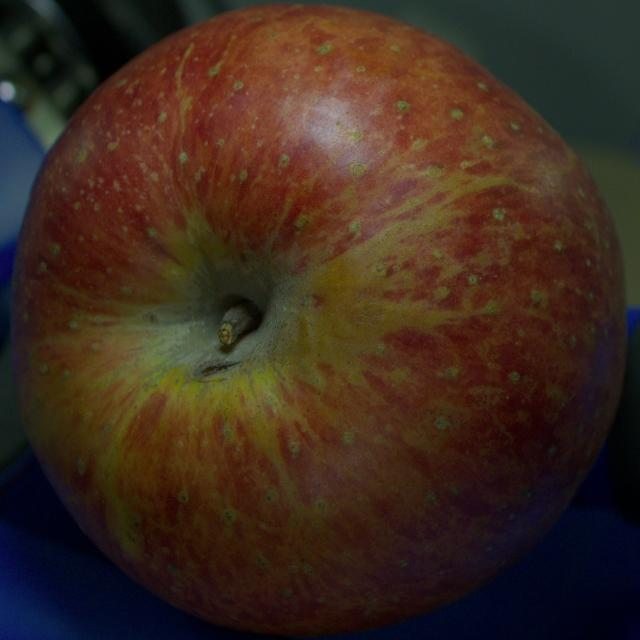apple: (10, 4, 626, 634)
scratch: (199, 362, 239, 376)
